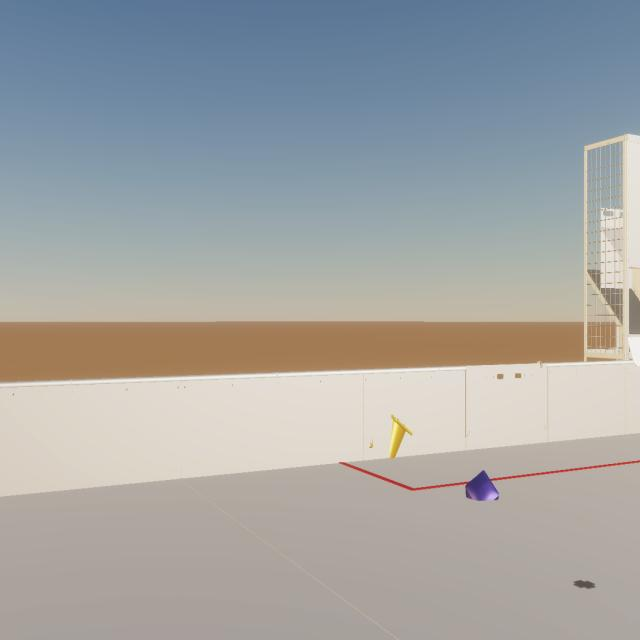frc_cone: (389, 414, 413, 458)
frc_cube: (465, 470, 499, 500)
